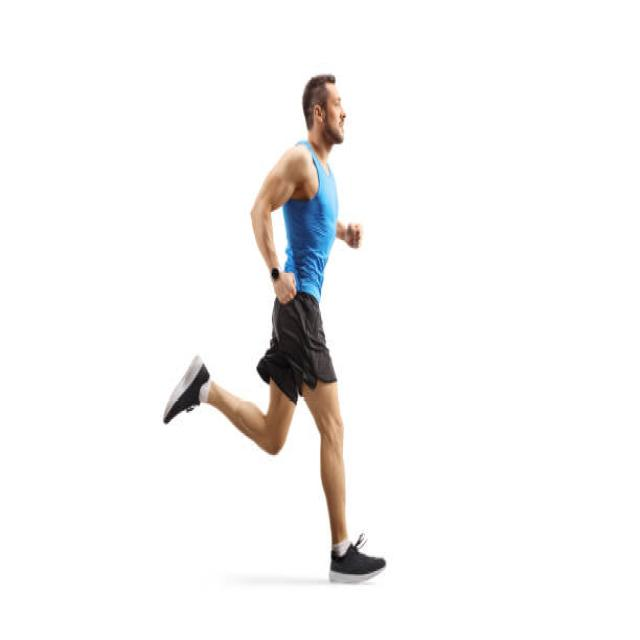Person: (165, 75, 386, 586)
